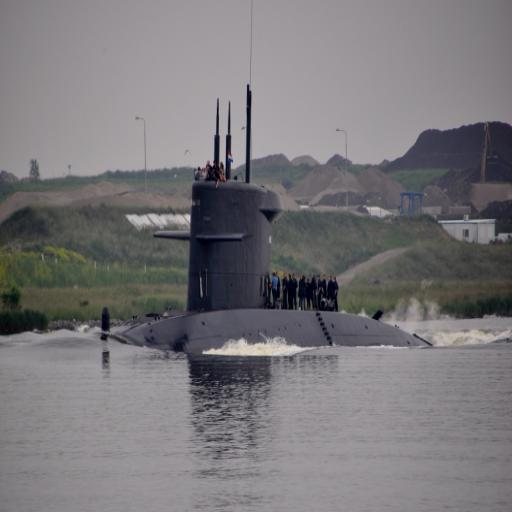submarine: (113, 182, 440, 348)
